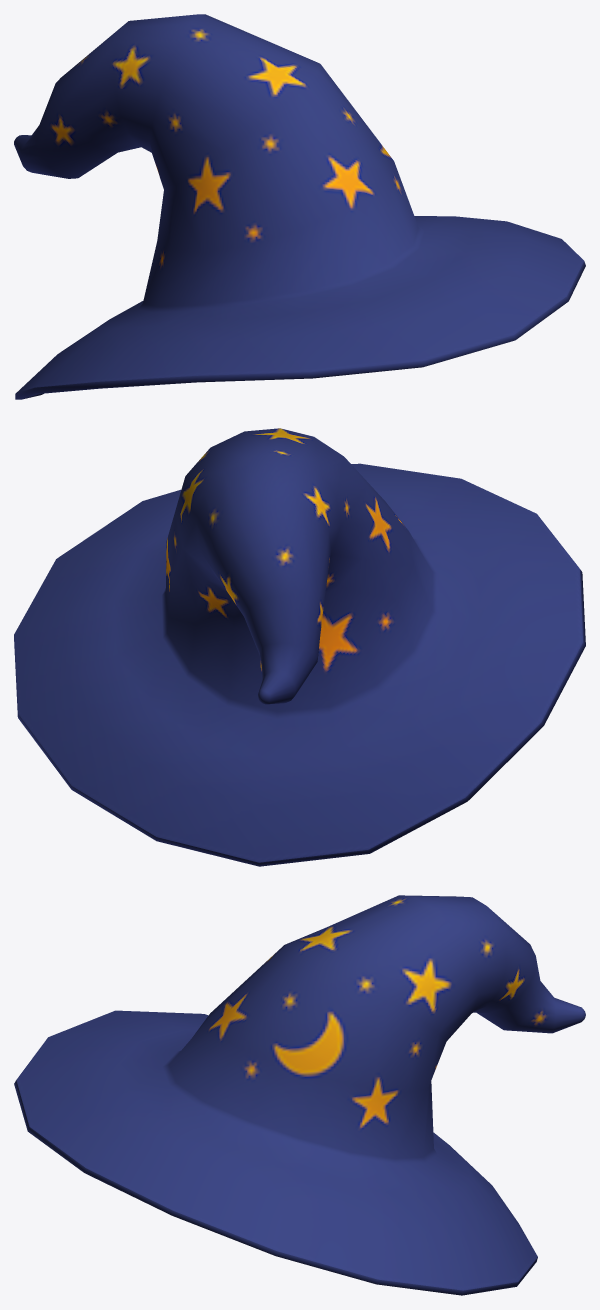
3 renders of one model, top to bottom at view 1: azimuth 30°, elevation 25°; view 2: azimuth 150°, elevation 25°; view 3: azimuth 270°, elevation 25°, orthographic. The views are drawn at different scales.
Parts seen in each view (by area): view 1: model_44; view 2: model_44; view 3: model_44.
Part boxes in pixels (x1,y1,x2,y2): model_44: [14, 14, 585, 399]; model_44: [14, 428, 585, 866]; model_44: [14, 895, 585, 1295].
Bounding box in the file's own units: 1.93 × 1.34 × 1.99.
Materials: 1 (1 with a texture image).
